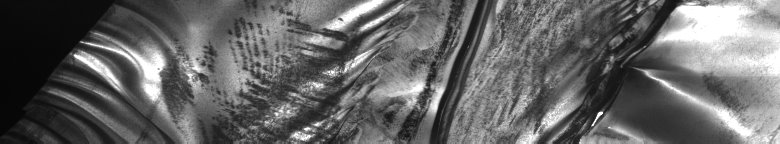ke: (86, 0, 743, 144)
